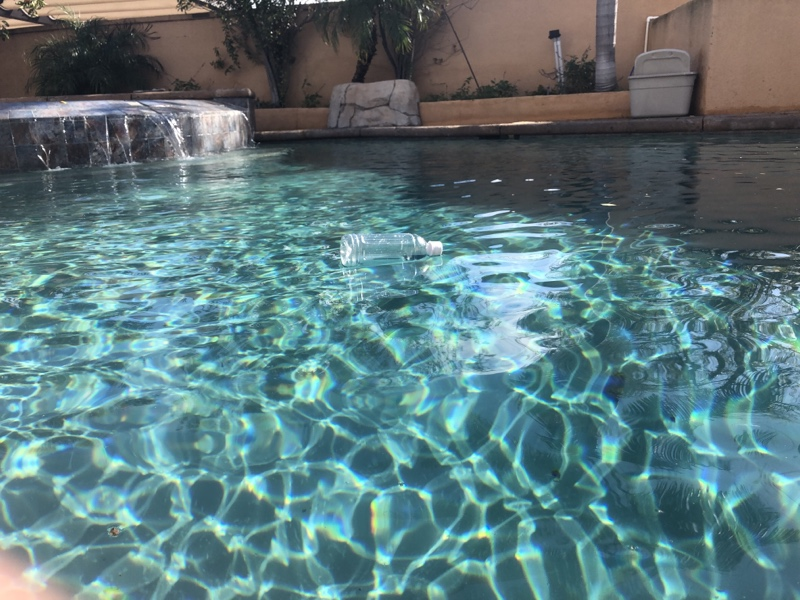Plastic Bottle: (336, 227, 446, 270)
